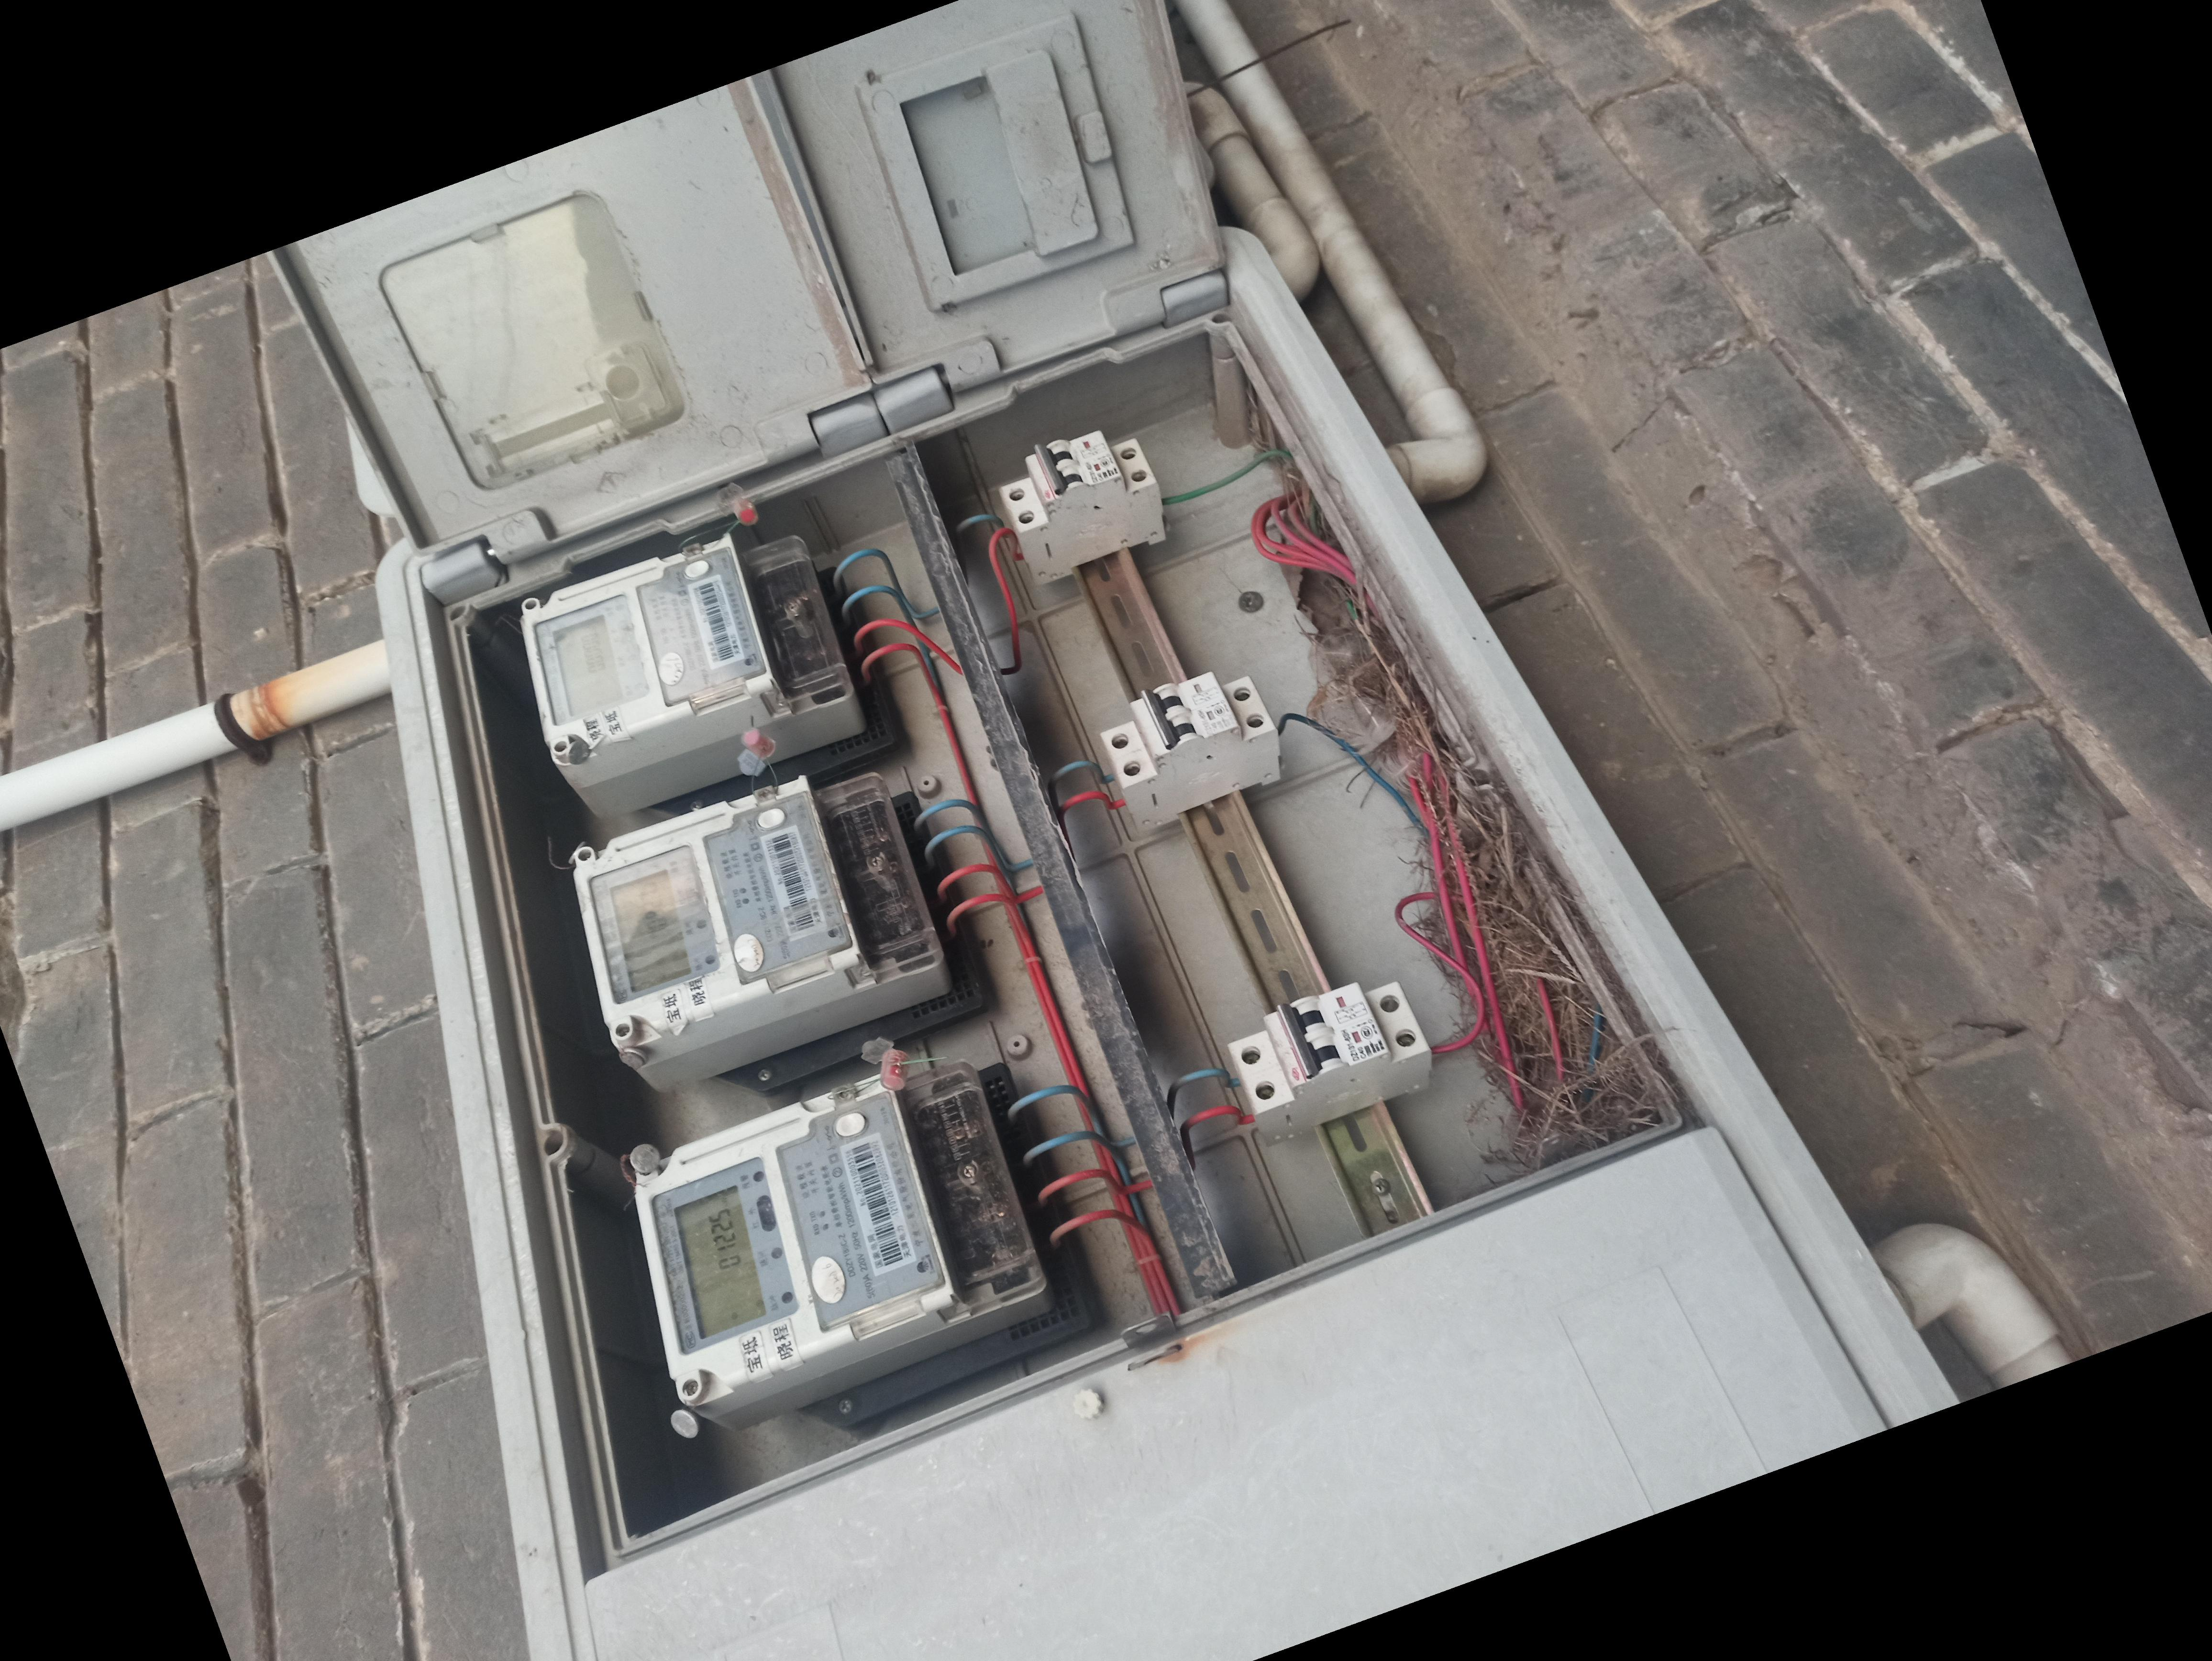digital: (635, 1073, 944, 1396), (576, 780, 853, 1031), (520, 541, 768, 748)
